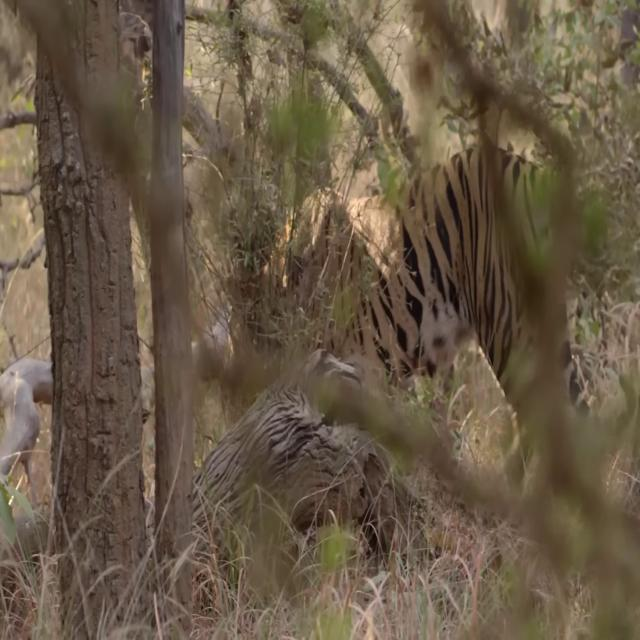tiger: (228, 141, 636, 450)
